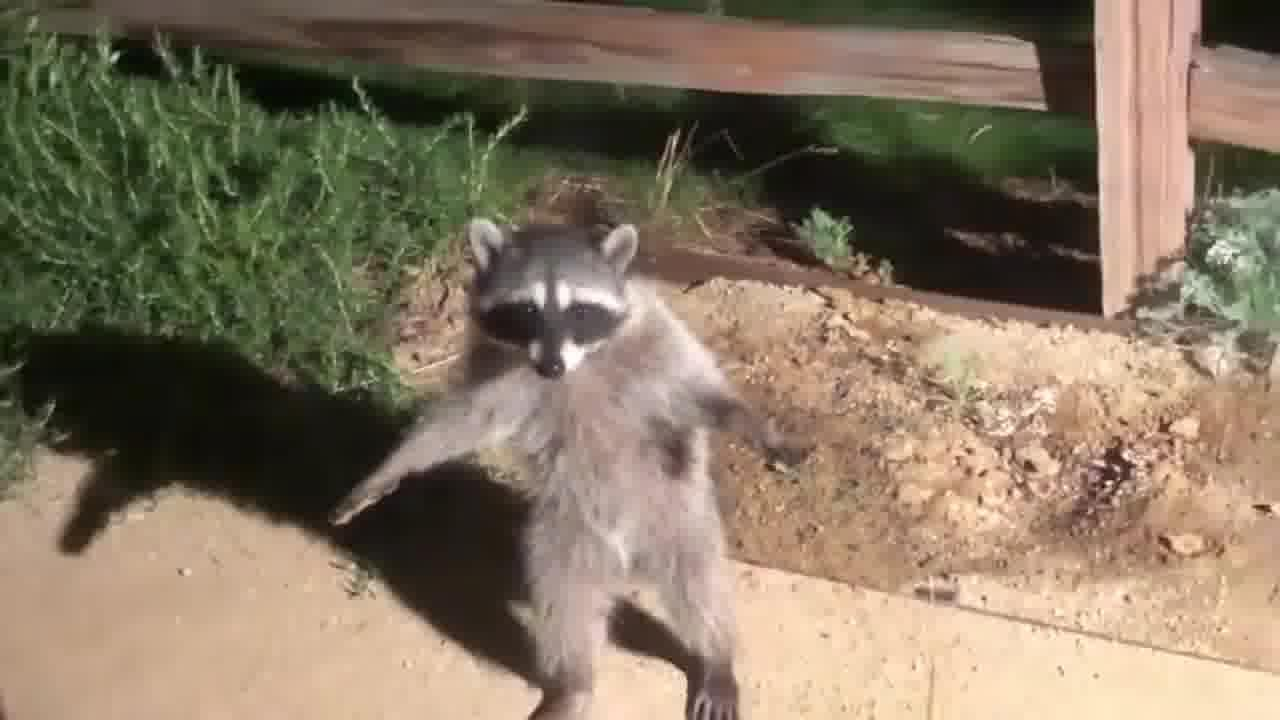raccoon: (329, 210, 826, 720)
